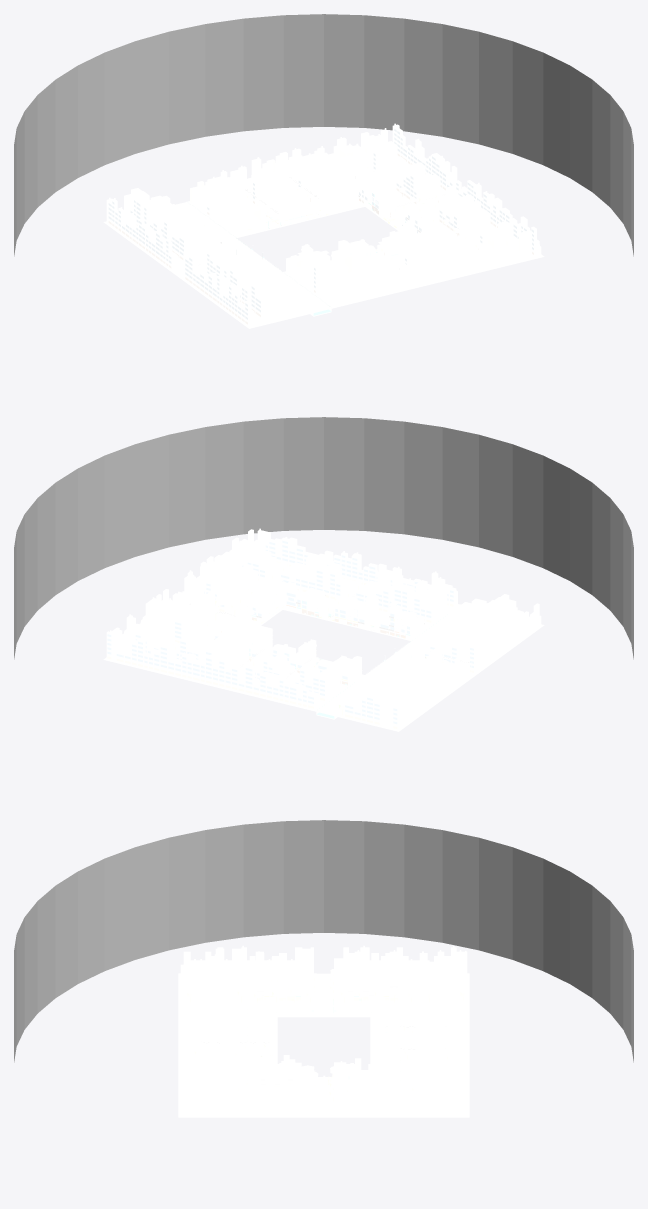
Rendered from vanh_pho.glb.
The picture shows the model from 3 angles, top to bottom: view 1: azimuth 30°, elevation 25°; view 2: azimuth 150°, elevation 25°; view 3: azimuth 270°, elevation 25°; orthographic projection.
Parts seen in each view (by area): view 1: ChanTroi, VanhXa, VanhGan, MatDuong, ViaHe, CayVanh; view 2: ChanTroi, VanhXa, VanhGan, MatDuong, ViaHe, CayVanh; view 3: ChanTroi, VanhXa, VanhGan, MatDuong, ViaHe, CayVanh.
Part boxes in pixels (<box>): ChanTroi: <box>14,14,633,256</box>; VanhXa: <box>106,123,541,327</box>; VanhGan: <box>184,171,451,282</box>; MatDuong: <box>173,164,474,326</box>; ViaHe: <box>103,162,544,328</box>; CayVanh: <box>176,165,480,304</box>; ChanTroi: <box>14,417,633,659</box>; VanhXa: <box>106,528,541,730</box>; VanhGan: <box>196,578,460,685</box>; MatDuong: <box>174,568,474,729</box>; ViaHe: <box>103,567,544,731</box>; CayVanh: <box>172,563,465,715</box>; ChanTroi: <box>14,820,633,1062</box>; VanhXa: <box>180,945,467,1116</box>; VanhGan: <box>246,972,401,1086</box>; MatDuong: <box>178,973,469,1101</box>; ViaHe: <box>178,973,469,1117</box>; CayVanh: <box>187,969,466,1101</box>.
Size of the model in its own units: 400 by 80.26 by 400.
